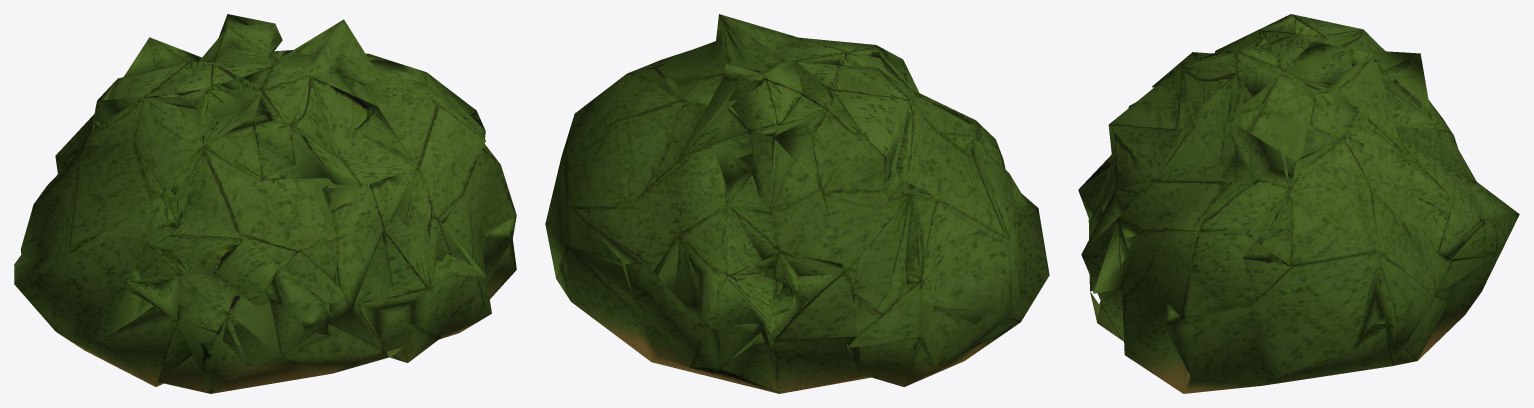
The model's file is bush_dense.glb.
The picture shows the model from 3 angles, left to right: view 1: azimuth 30°, elevation 25°; view 2: azimuth 150°, elevation 25°; view 3: azimuth 270°, elevation 25°; orthographic projection. The views are drawn at different scales.
Visible parts, largest first — view 1: tripo_node_ed3cee4e-d7cc-45d1-a2f0-f6055f37b4c3; view 2: tripo_node_ed3cee4e-d7cc-45d1-a2f0-f6055f37b4c3; view 3: tripo_node_ed3cee4e-d7cc-45d1-a2f0-f6055f37b4c3.
Boxes of the visible parts, bbox=[...] form: tripo_node_ed3cee4e-d7cc-45d1-a2f0-f6055f37b4c3: bbox=[14, 14, 516, 393]; tripo_node_ed3cee4e-d7cc-45d1-a2f0-f6055f37b4c3: bbox=[545, 14, 1049, 393]; tripo_node_ed3cee4e-d7cc-45d1-a2f0-f6055f37b4c3: bbox=[1078, 14, 1519, 393].
Size of the model in its own units: 1 by 0.6034 by 0.8373.
1 material, 1 textured.
